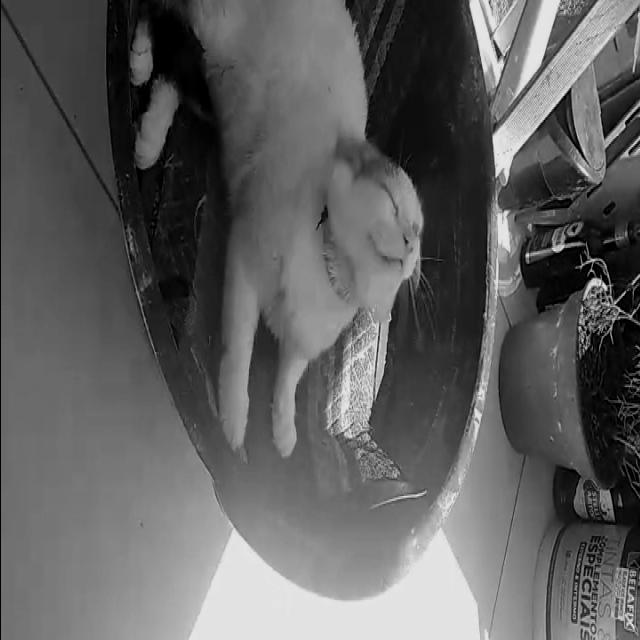Simba: (96, 5, 446, 502)
